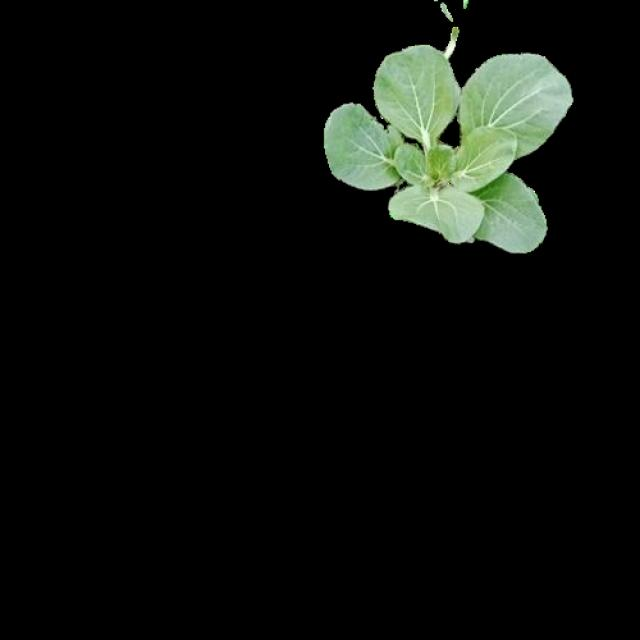healthy: (321, 44, 570, 254)
not-mature: (324, 46, 572, 256)
